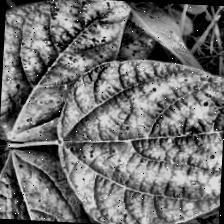ALS: (52, 51, 224, 224), (0, 0, 132, 148), (0, 148, 96, 223)
